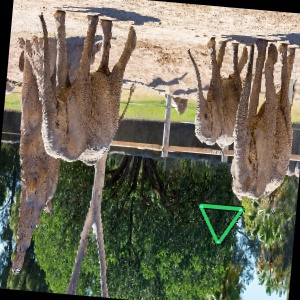triangle: (195, 200, 246, 246)
